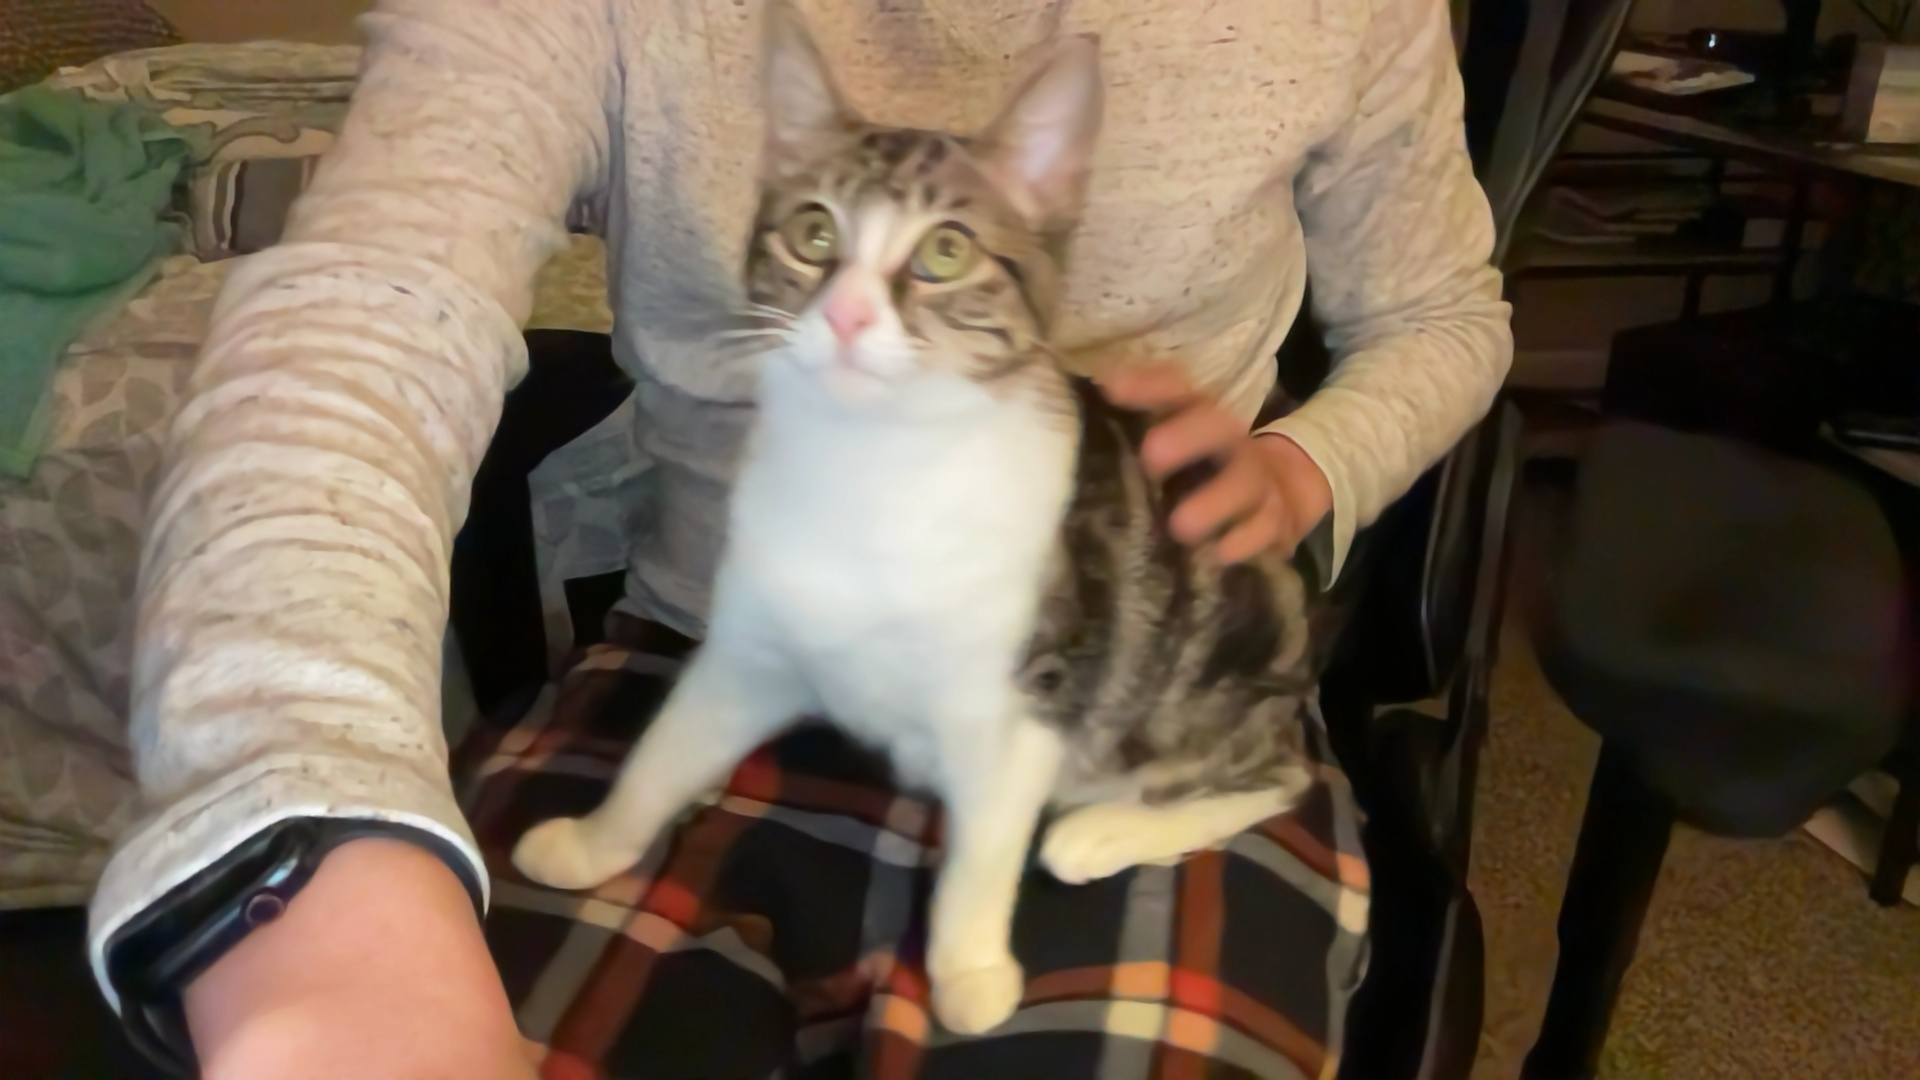cat: (500, 40, 1340, 1044)
